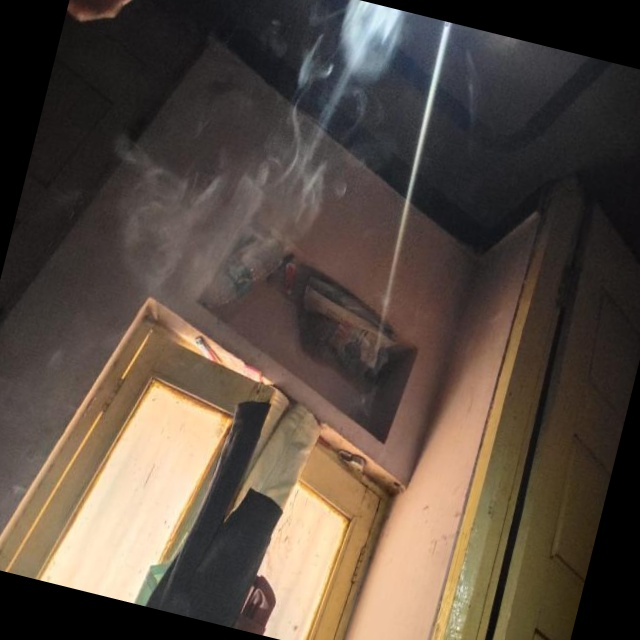smoke: (107, 0, 408, 348)
